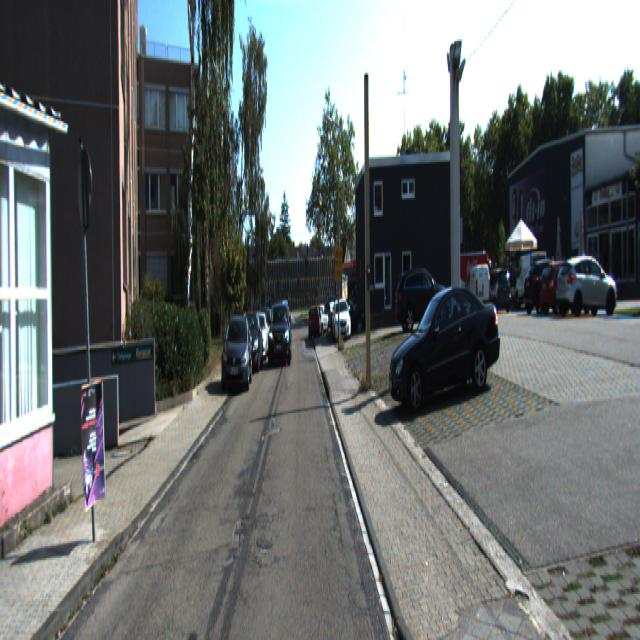Car: (386, 267, 510, 412), (554, 252, 620, 316), (395, 265, 451, 337), (538, 257, 600, 318), (521, 257, 583, 316), (220, 311, 254, 394), (515, 247, 548, 308), (235, 311, 264, 378), (267, 303, 293, 369), (463, 260, 492, 313), (481, 264, 512, 312), (332, 296, 352, 341), (308, 304, 322, 341)
